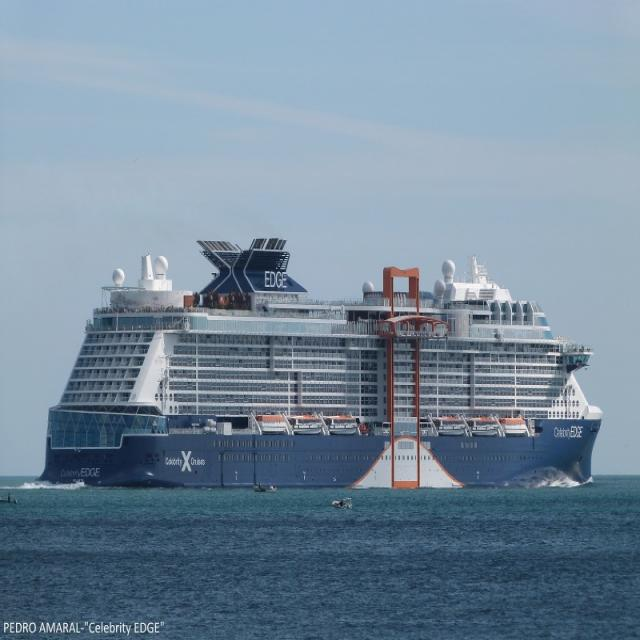cruises: (39, 241, 607, 496)
